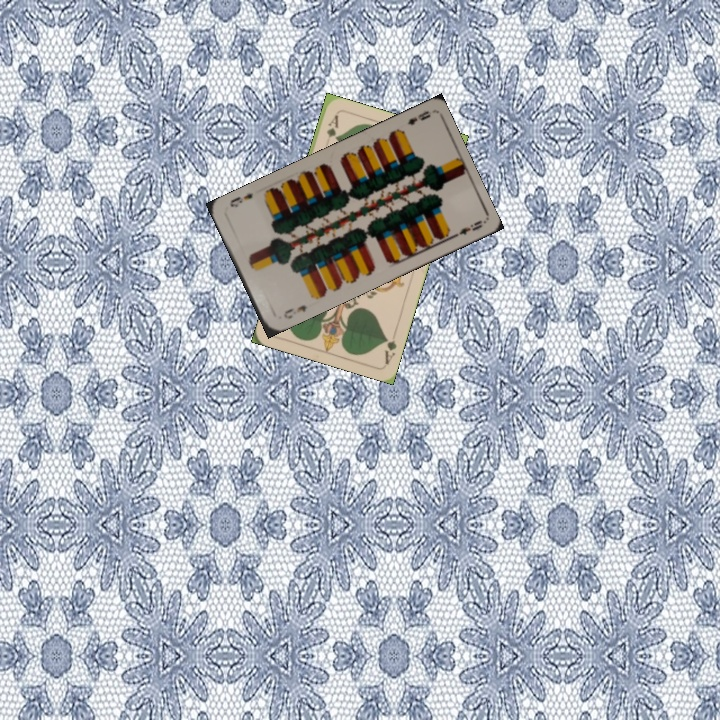E9: (280, 301, 309, 322), (404, 107, 433, 128)
GA: (380, 326, 399, 366), (322, 111, 341, 140)
